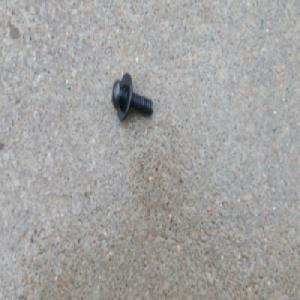BoltWasher: (111, 73, 154, 123)
